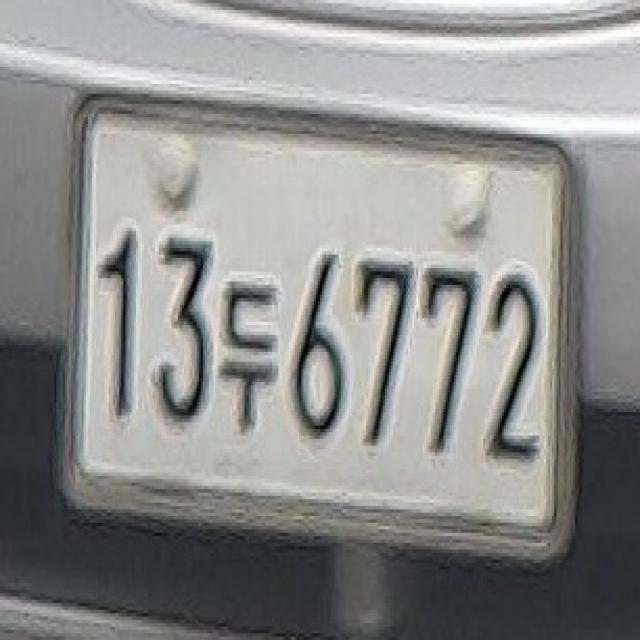1: (88, 221, 146, 426)
2: (479, 254, 560, 466)
3: (150, 228, 222, 432)
6: (289, 238, 347, 452)
7: (414, 254, 485, 466), (352, 242, 421, 452)
du: (218, 265, 282, 439)
license_plate: (59, 84, 586, 566)
